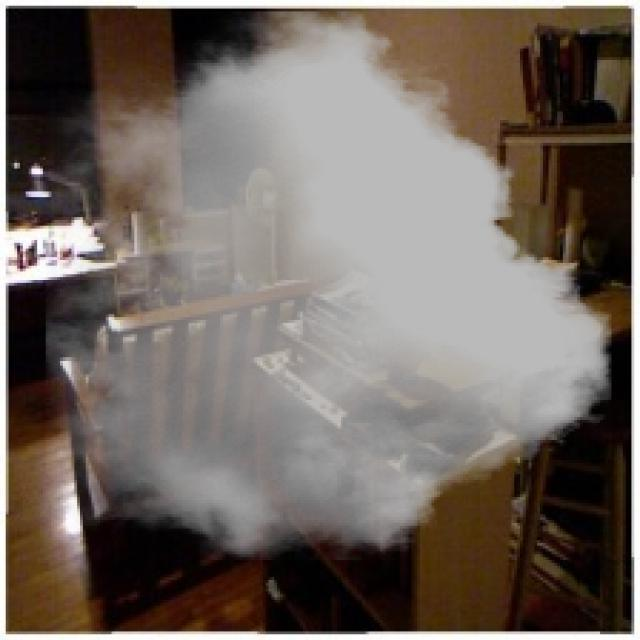Smoke: (46, 11, 612, 560)
